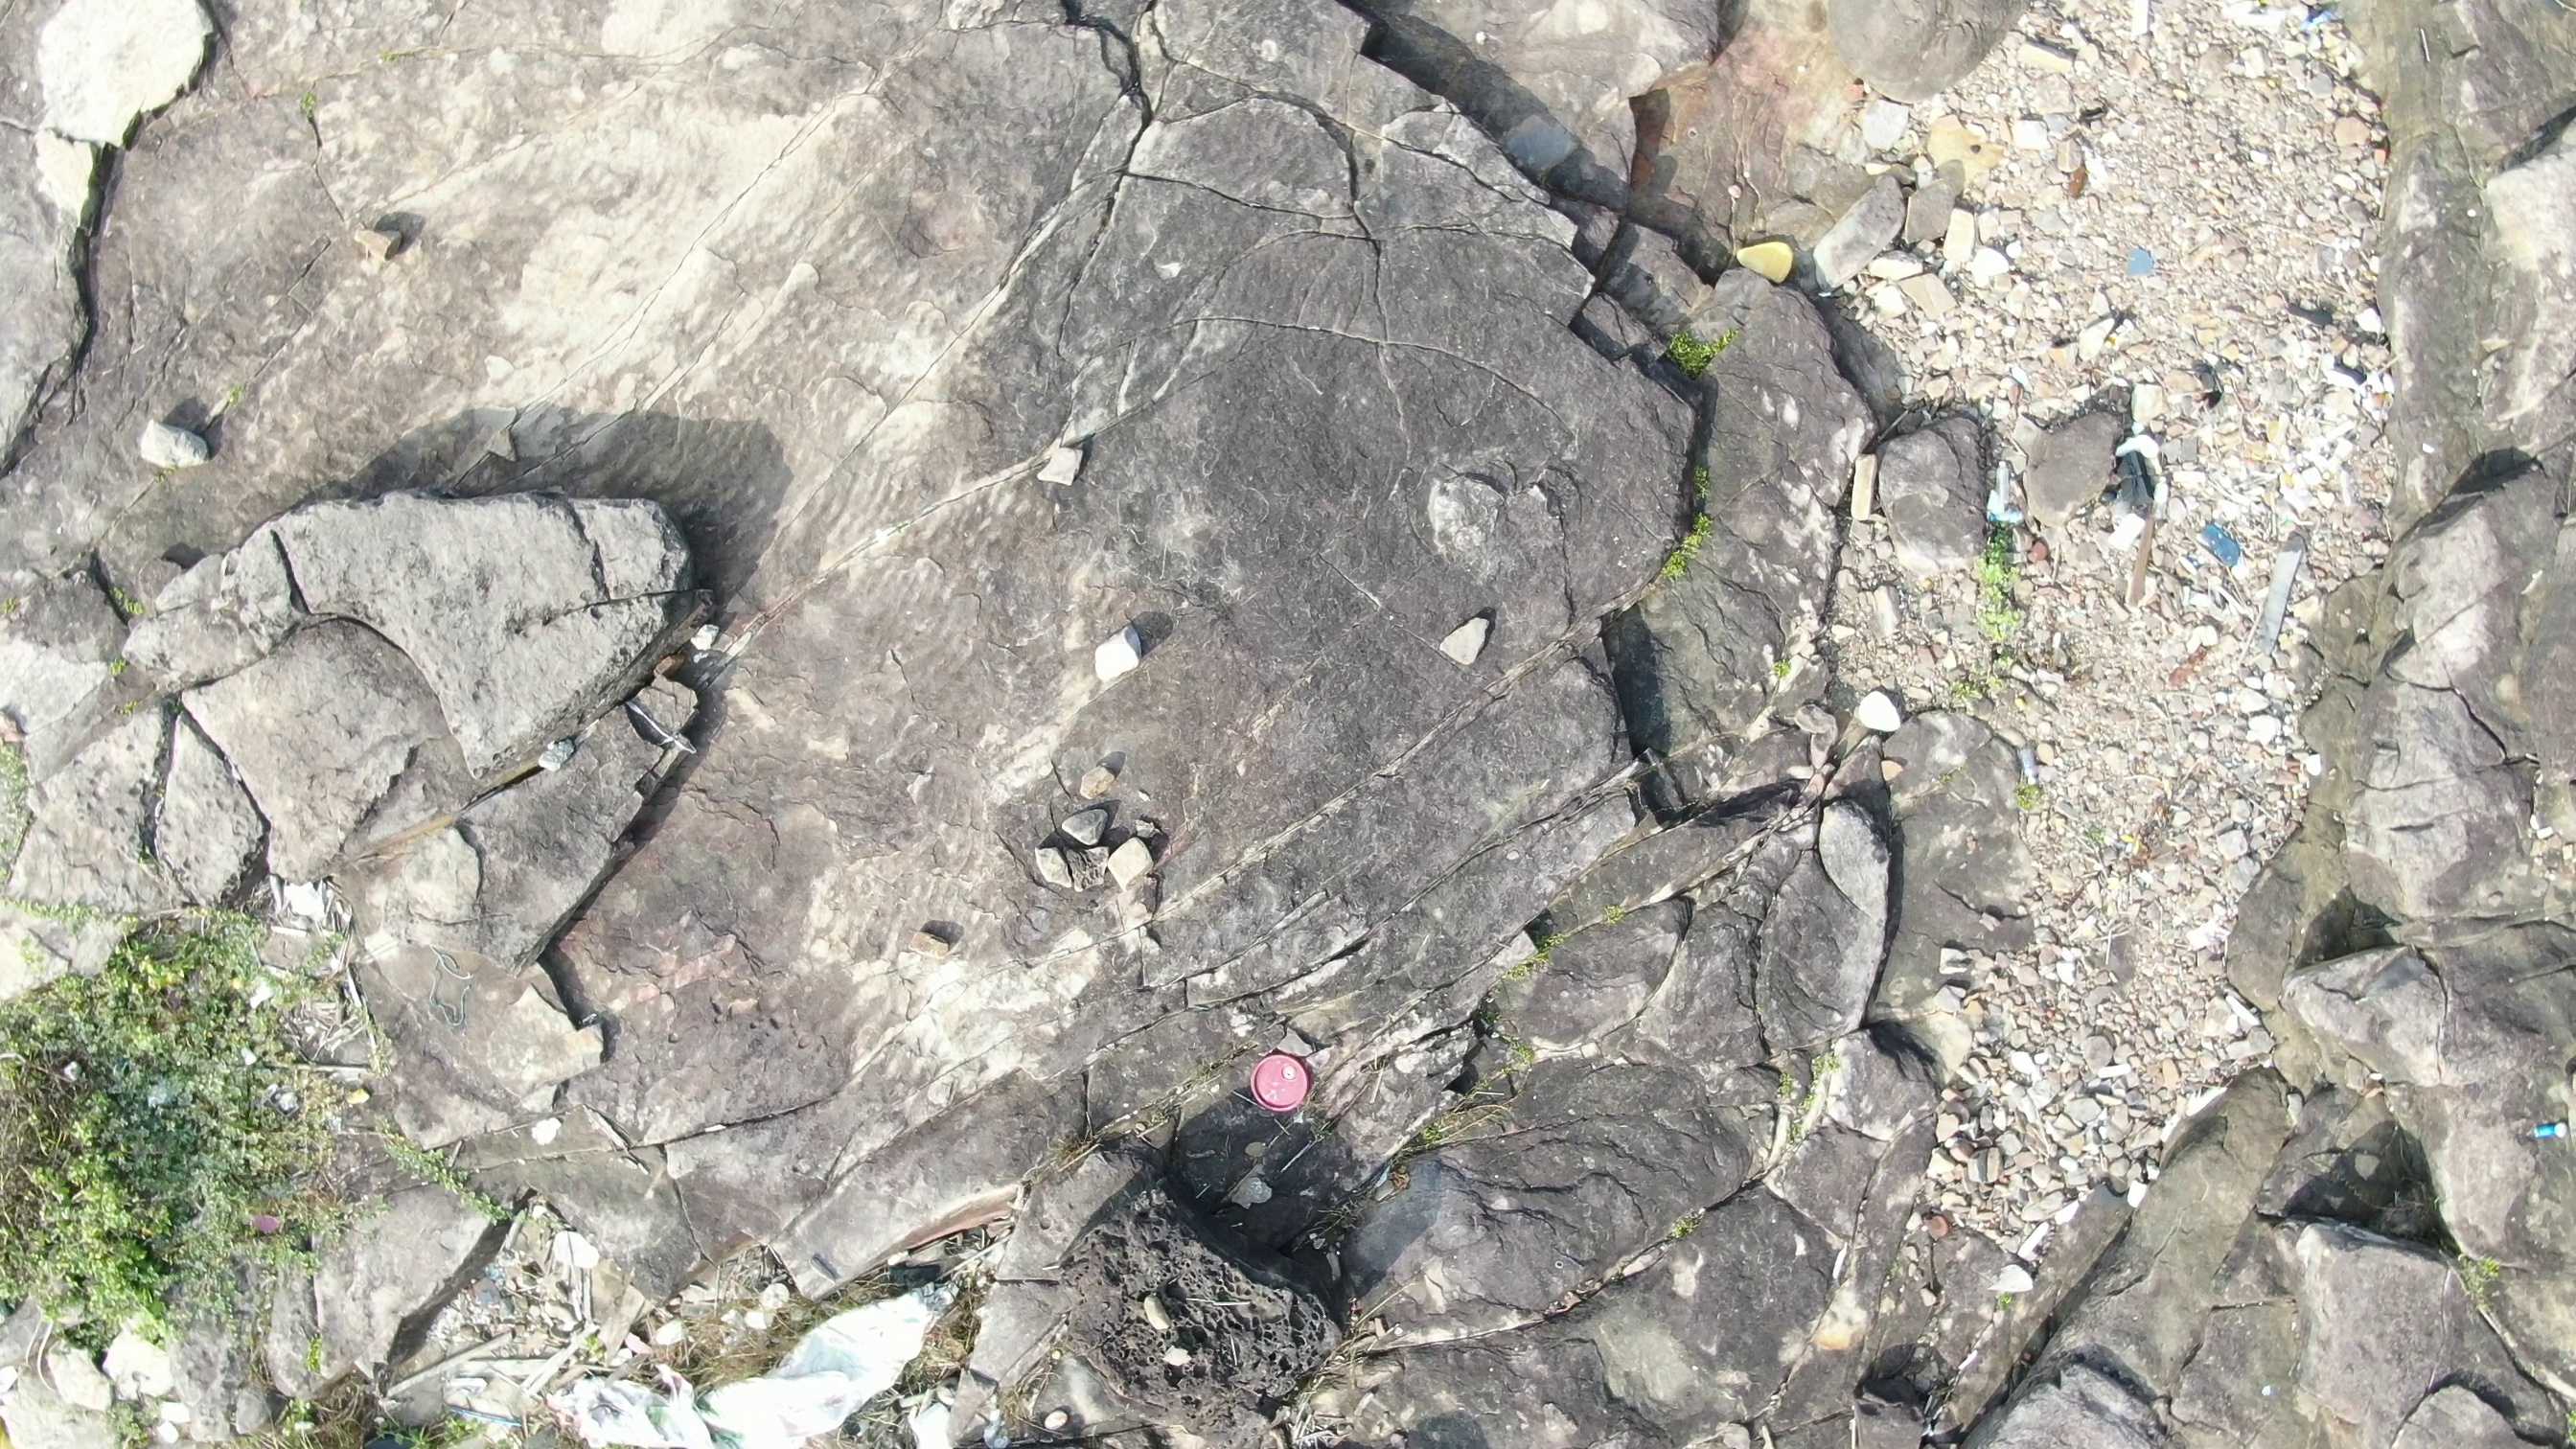garbage: (1247, 1044, 1316, 1122), (1729, 235, 1805, 295), (2189, 518, 2245, 564), (2109, 234, 2160, 281)
